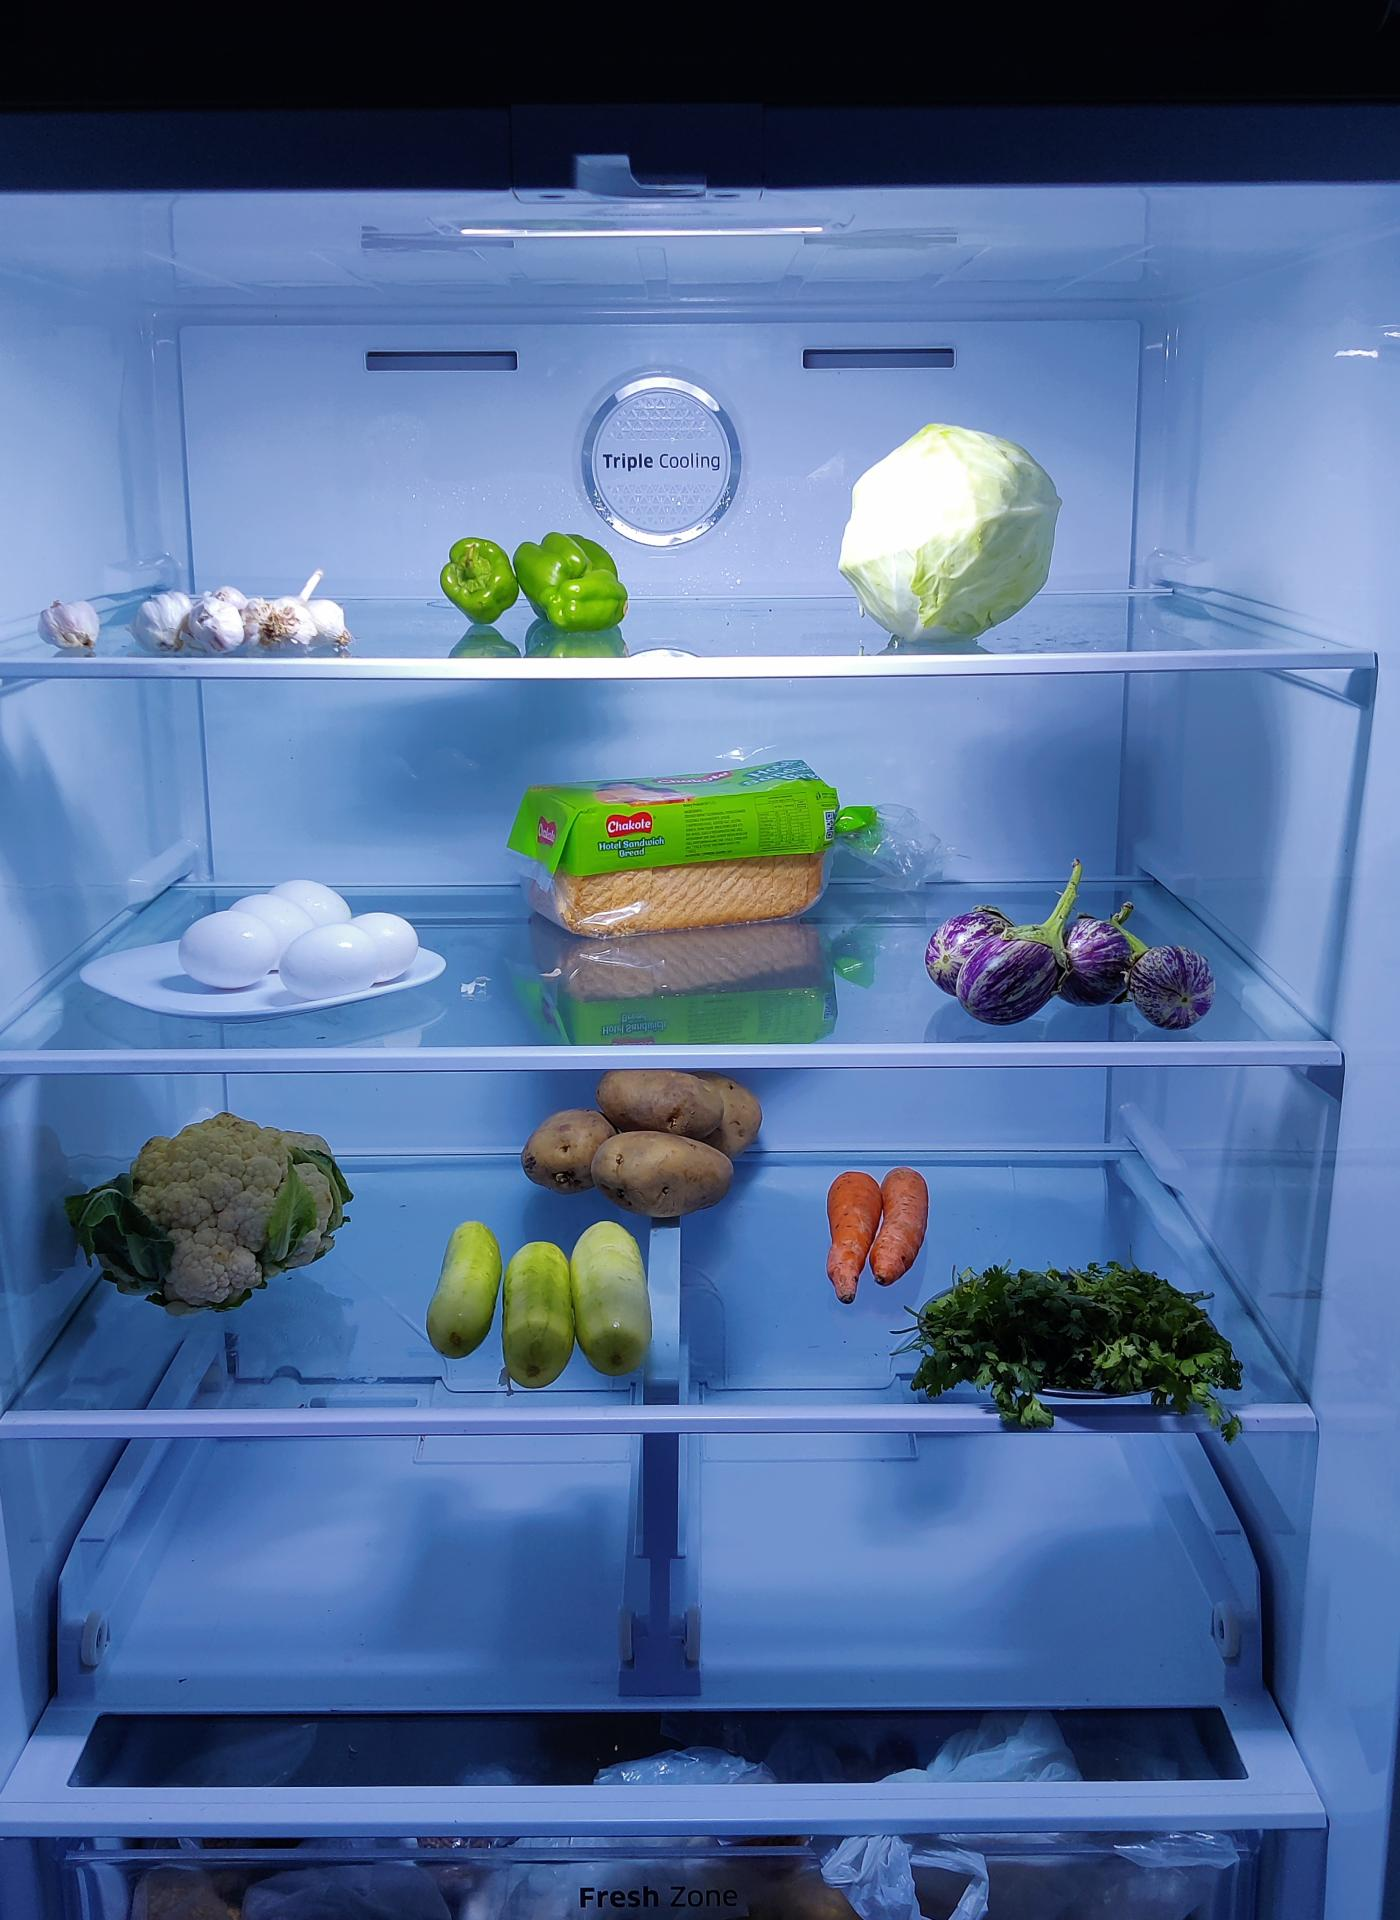bread: (508, 759, 856, 941)
brinjal: (906, 897, 1205, 1011)
cabbage: (838, 426, 1059, 647)
capsicum: (441, 528, 634, 640)
carrots: (820, 1166, 927, 1304)
cauliflower: (69, 1112, 347, 1318)
coriander: (902, 1260, 1230, 1415)
cucumber: (426, 1212, 663, 1392)
egg: (179, 871, 420, 997)
garlic: (146, 569, 356, 662)
potato: (534, 1087, 774, 1213)
